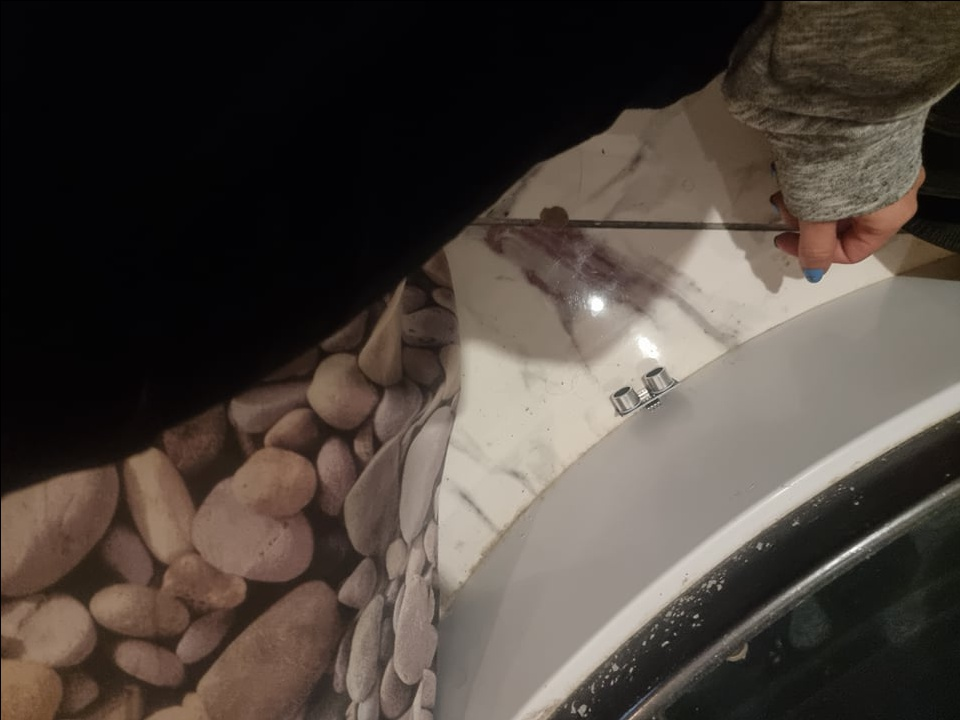SENSOR: (607, 364, 680, 418)
